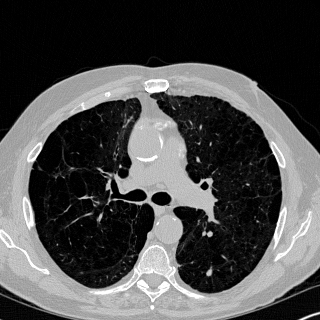nodule: (205, 268, 213, 276)
